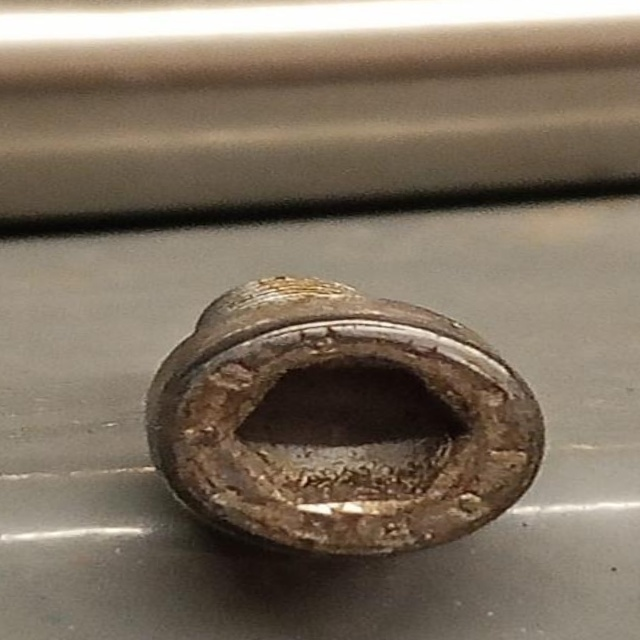allen: (133, 295, 547, 561)
